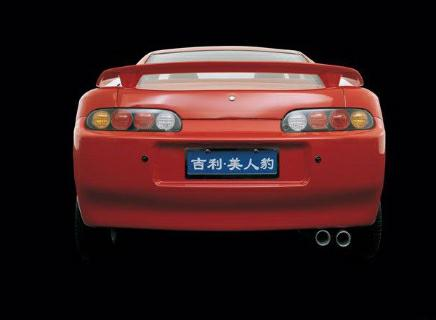吉利汽车-美人豹: (64, 41, 393, 267)
